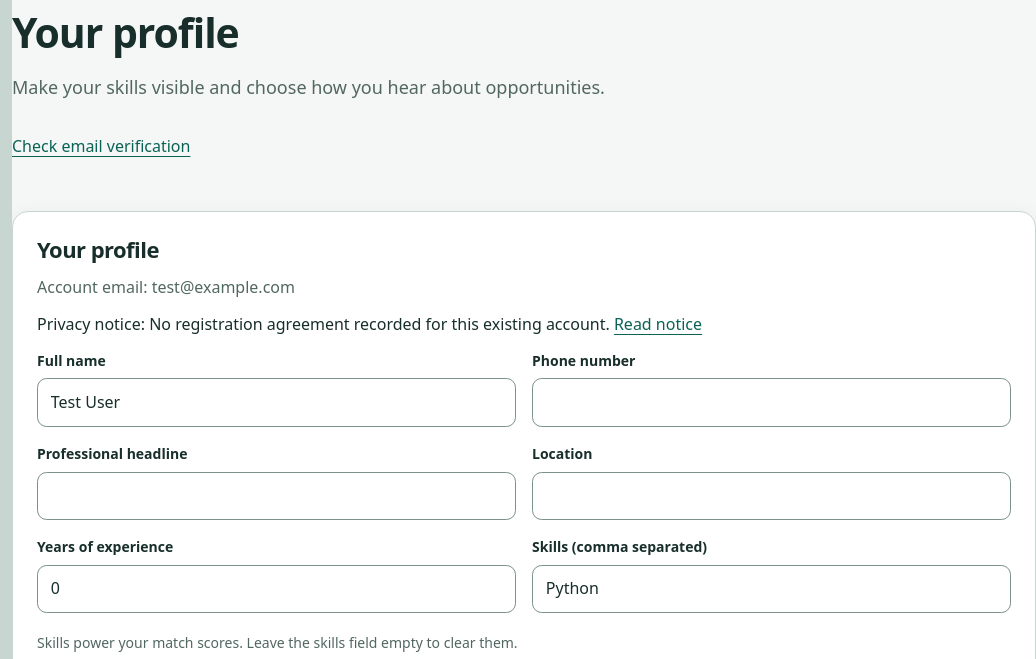
Scenario: loads and saves contact, skills and independent alert preferences
This screenshot has width=1036, height=659.
Replace the text in the field labelled "Full name" with "Updated User" at point(276, 403), box [37,378,516,427]
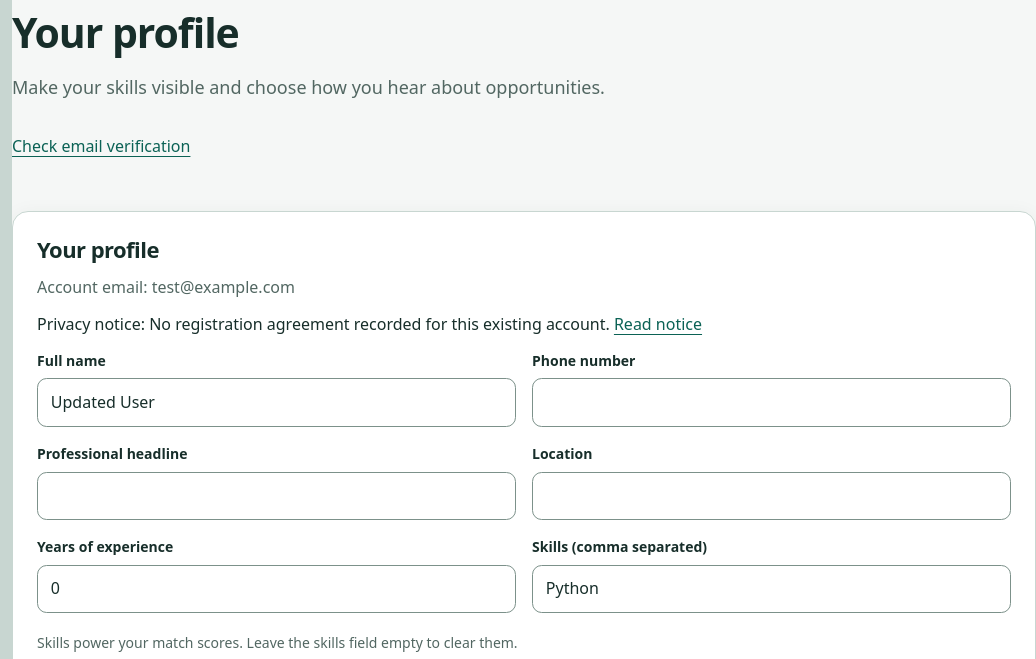
Replace the text in the field labelled "Skills (comma separated)" with "Python, React, Python" at point(772, 589), box [532,565,1011,613]
(page scrolled)
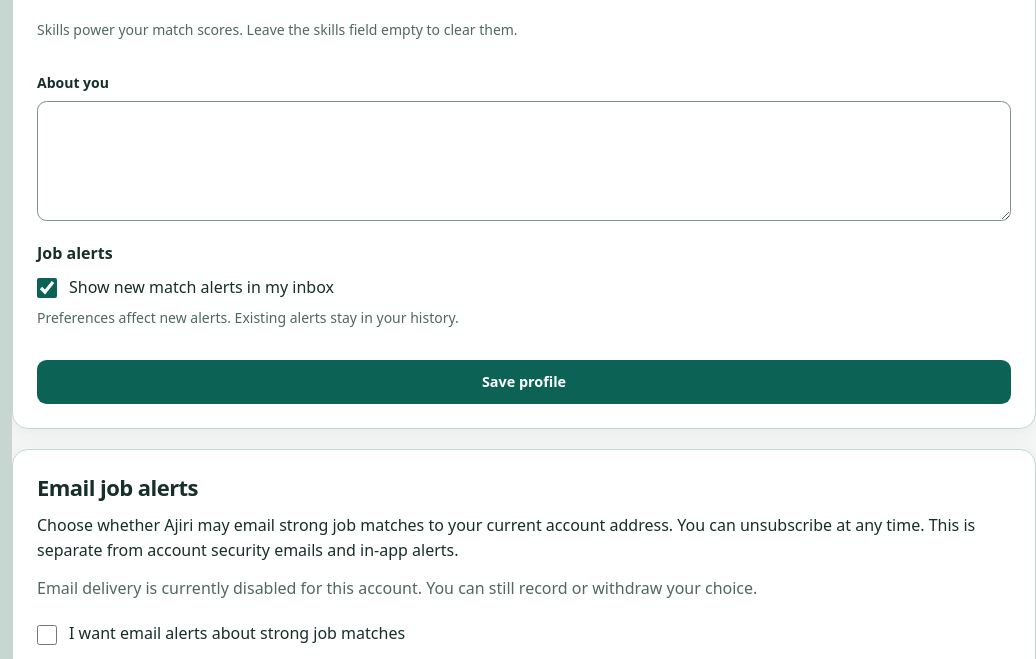
Click the button "Save profile" at point(524, 382), box [37,360,1011,404]
(page scrolled)
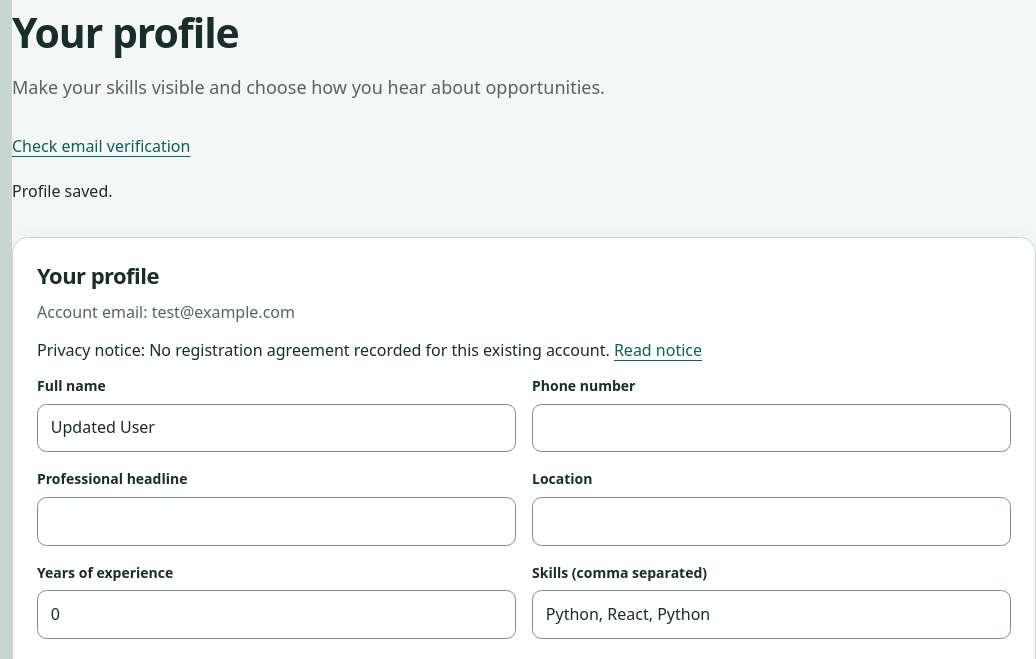
expect the text "Profile saved." is shown: met, box [12,180,112,202]
